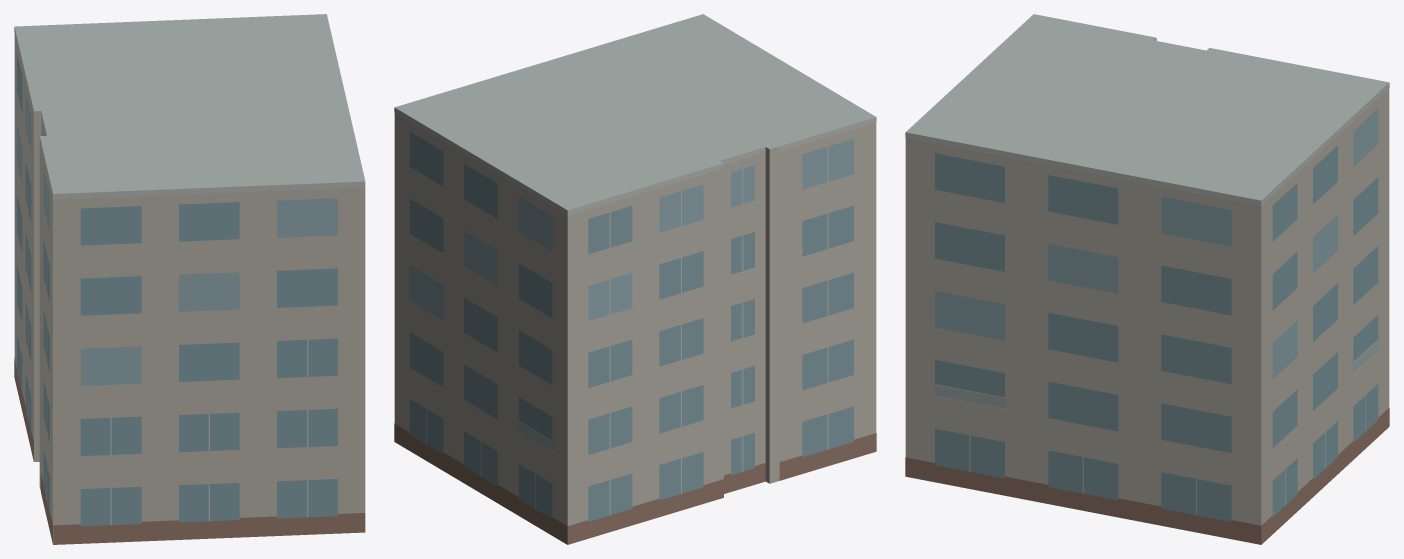
File: survey-upis-32551310.glb
3 views of the same model, side by side, from view 1: azimuth 30°, elevation 25°; view 2: azimuth 150°, elevation 25°; view 3: azimuth 270°, elevation 25° (orthographic). The views are drawn at different scales.
Visible parts, largest first — view 1: survey-upis-32551310.tmp; view 2: survey-upis-32551310.tmp; view 3: survey-upis-32551310.tmp.
Part boxes in pixels (x1=…): survey-upis-32551310.tmp: x1=14, y1=14, x2=365, y2=544; survey-upis-32551310.tmp: x1=394, y1=14, x2=876, y2=544; survey-upis-32551310.tmp: x1=905, y1=14, x2=1389, y2=544.
Size of the model in its own units: 17.73 by 15.25 by 19.44.
